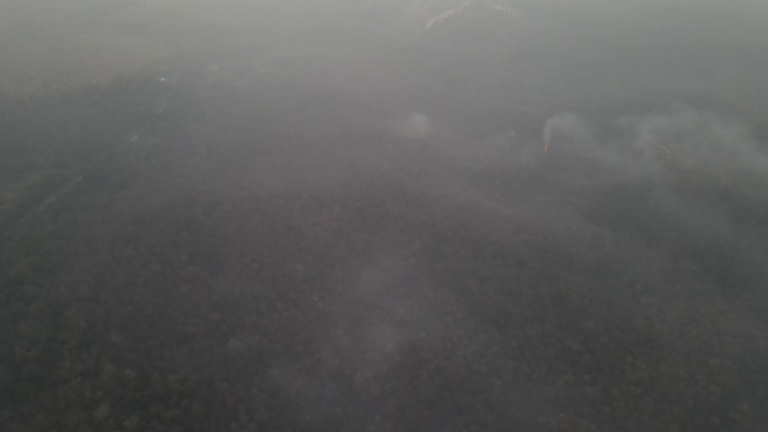fire: (654, 140, 675, 162), (538, 140, 552, 156)
smoke: (635, 101, 768, 230), (521, 107, 631, 186), (393, 104, 440, 149)
